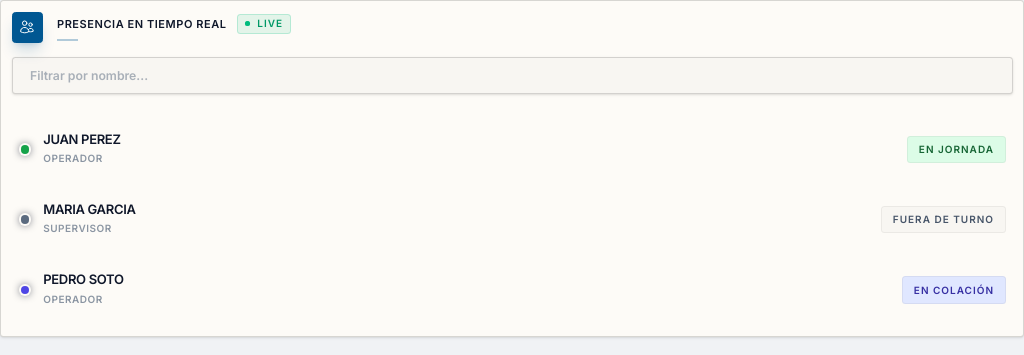
Test: LiveStatusPanel Component › should filter employees by name
This screenshot has width=1024, height=355.
Type "Maria" into the search field with placeholder "Filtrar por nombre..." at (512,76), box [12,57,1012,94]
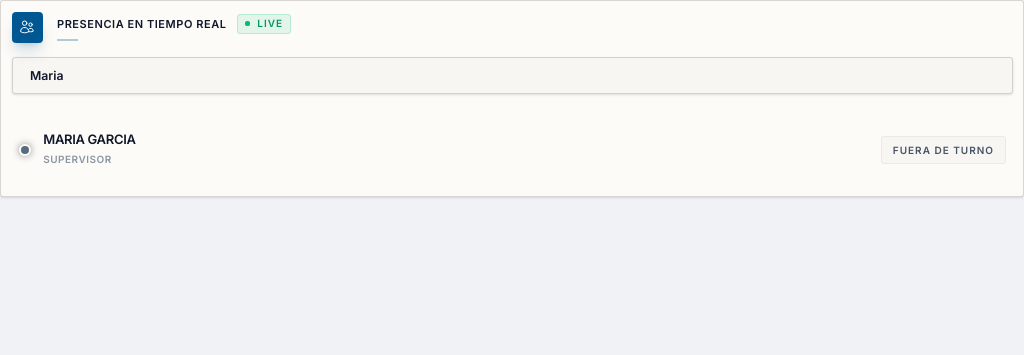
Result: the text "MARIA GARCIA" is shown at [43,133,136,146]
Result: the text "JUAN PEREZ" is gone
